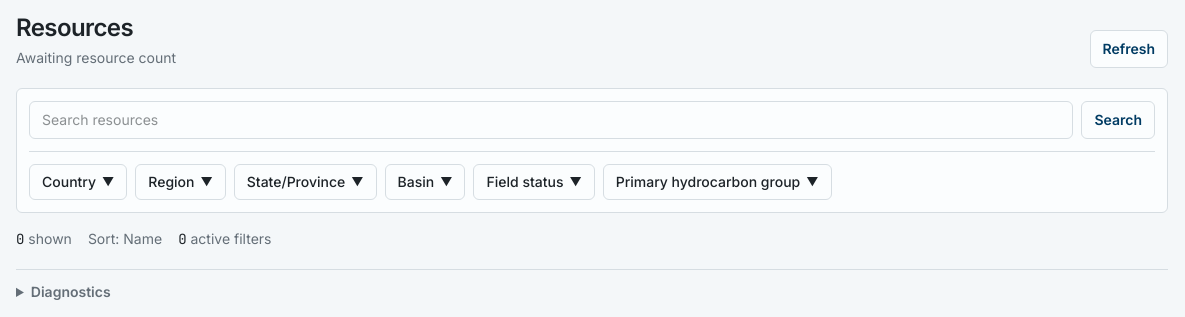
Test case: ResourcesView › search › clears the input and active search when Clear search is clicked
Type "ghawar" into the search field labelled "Search resources". click: (551,120)
box: [29,101,1074,139]
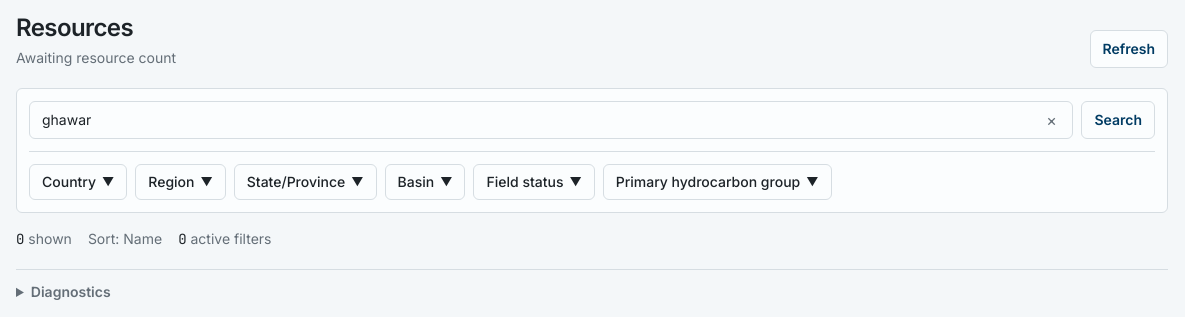
Click the button "Search". click: (1118,120)
box: [1082,101,1155,139]
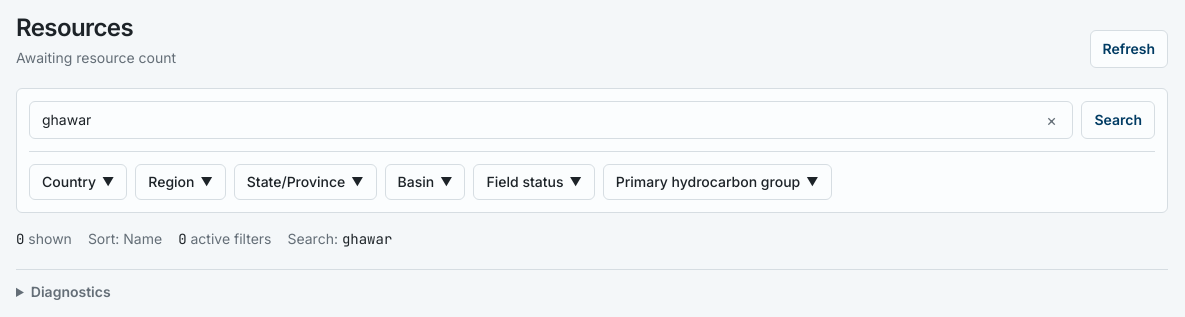
Click the button named "clear search". click: (1052,120)
box: [1038,106,1066,134]
Wait 300 ms
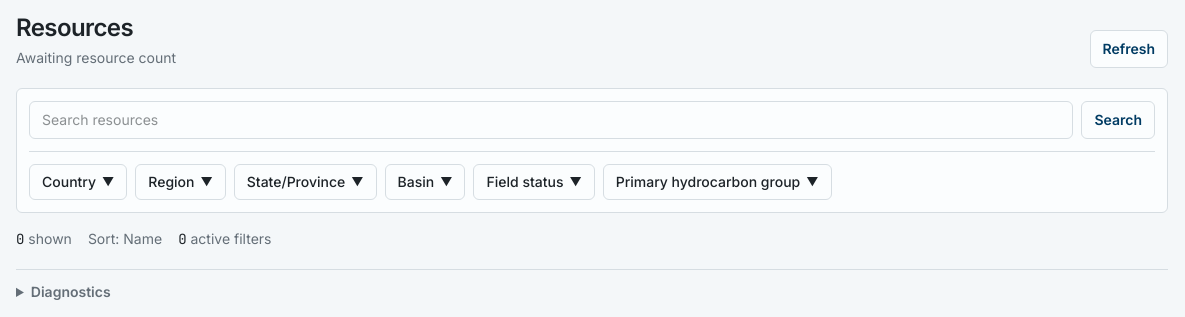
Expected: the search field labelled "Search resources" is empty, [29,101,1074,139]
